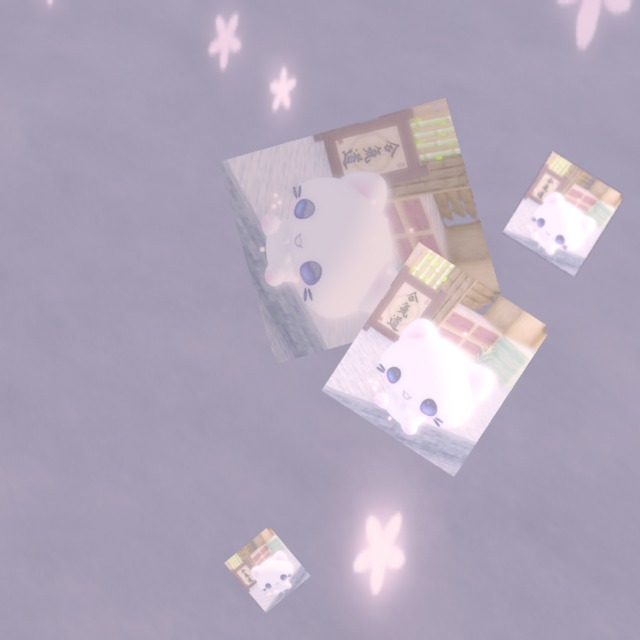urso_branco: (218, 97, 503, 365), (321, 242, 552, 477), (502, 151, 625, 277), (224, 526, 311, 613)
